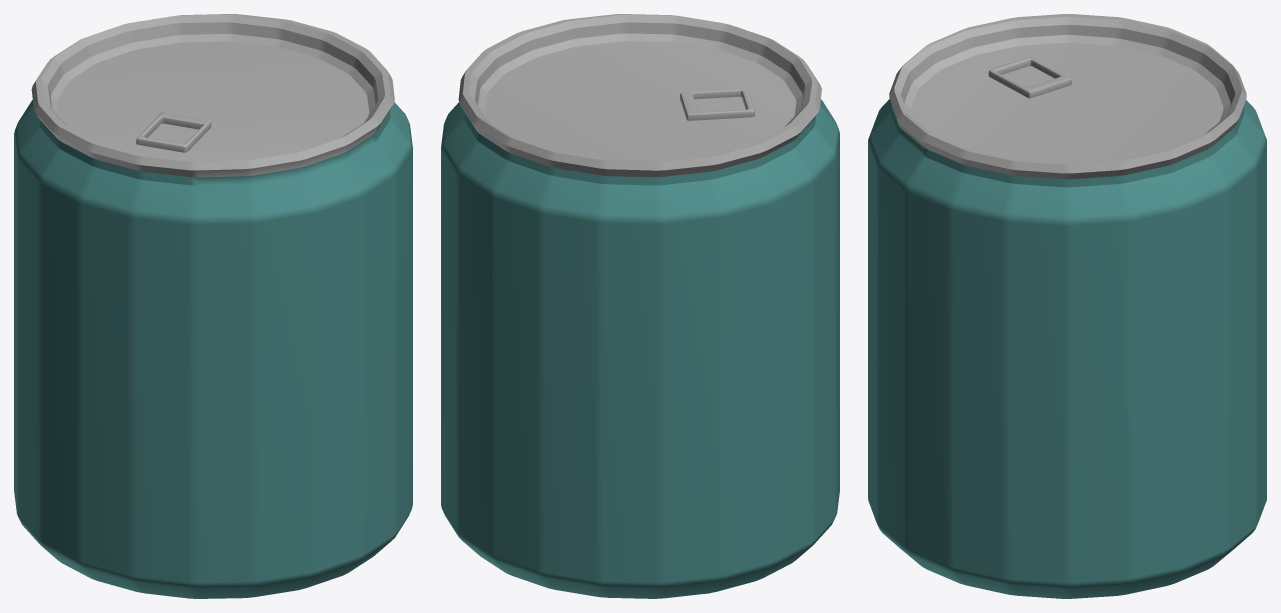
Rendered from Ürün28.fbx.
3 renders of one model, left to right at view 1: azimuth 30°, elevation 25°; view 2: azimuth 150°, elevation 25°; view 3: azimuth 270°, elevation 25°, orthographic.
Visible parts, largest first — view 1: Ürün6; view 2: Ürün6; view 3: Ürün6.
Part boxes in pixels (bbox=[...]): Ürün6: bbox=[14, 14, 412, 598]; Ürün6: bbox=[441, 14, 839, 598]; Ürün6: bbox=[868, 14, 1266, 598].
Size of the model in its own units: 11.57 by 14.02 by 11.57.
